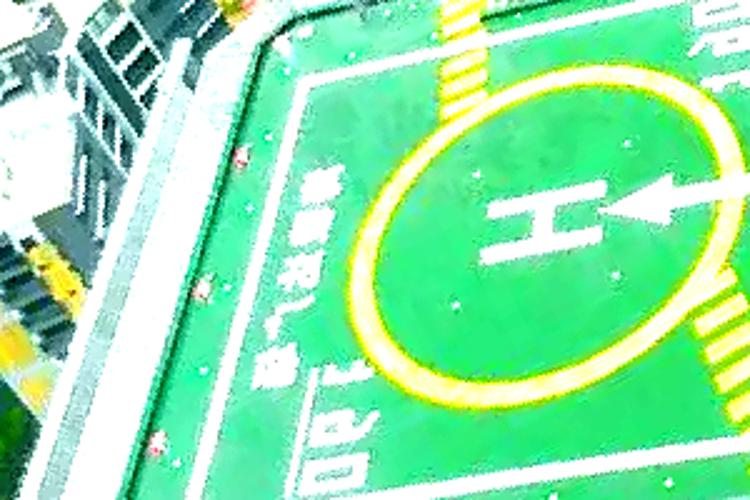Apron: (333, 57, 750, 412)
